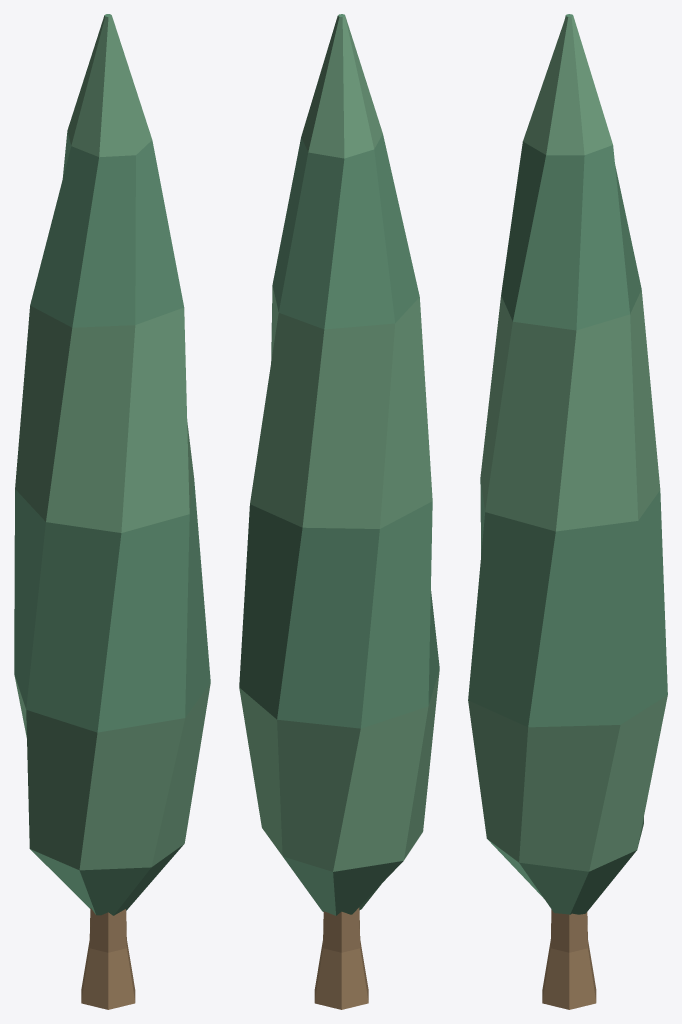
The model's file is Tree_Cypress.fbx.
The picture shows the model from 3 angles, left to right: view 1: azimuth 30°, elevation 25°; view 2: azimuth 150°, elevation 25°; view 3: azimuth 270°, elevation 25°; orthographic projection.
Visible parts, largest first — view 1: Tree_Cypress; view 2: Tree_Cypress; view 3: Tree_Cypress.
Part boxes in pixels (x1=…): Tree_Cypress: x1=14, y1=14, x2=210, y2=1009; Tree_Cypress: x1=239, y1=14, x2=439, y2=1009; Tree_Cypress: x1=468, y1=14, x2=667, y2=1009.
Size of the model in its own units: 0.9846 by 5.55 by 1.02.
